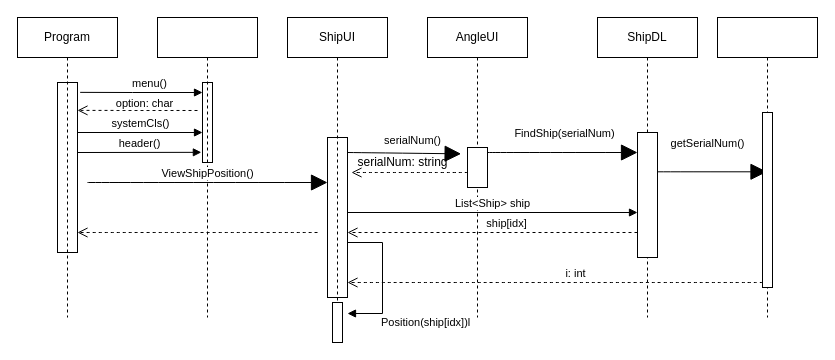
Image size: 835x360. Some labels were removed from this diagram. Each missing label, with the box of its shape:
MenuUI: (156, 16, 258, 318)
Ship: (716, 16, 818, 318)
